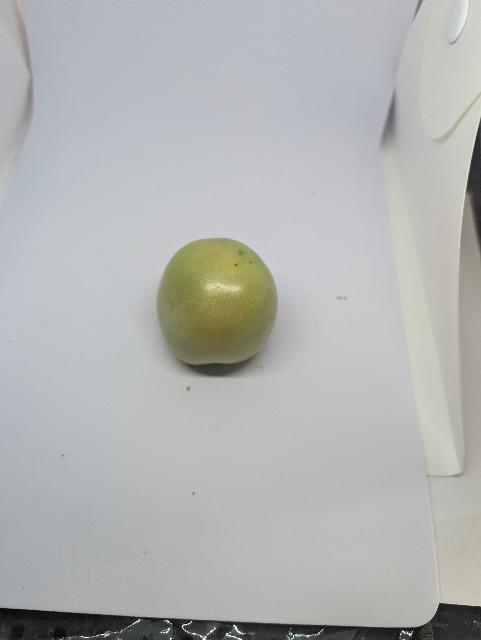green: (154, 235, 280, 367)
